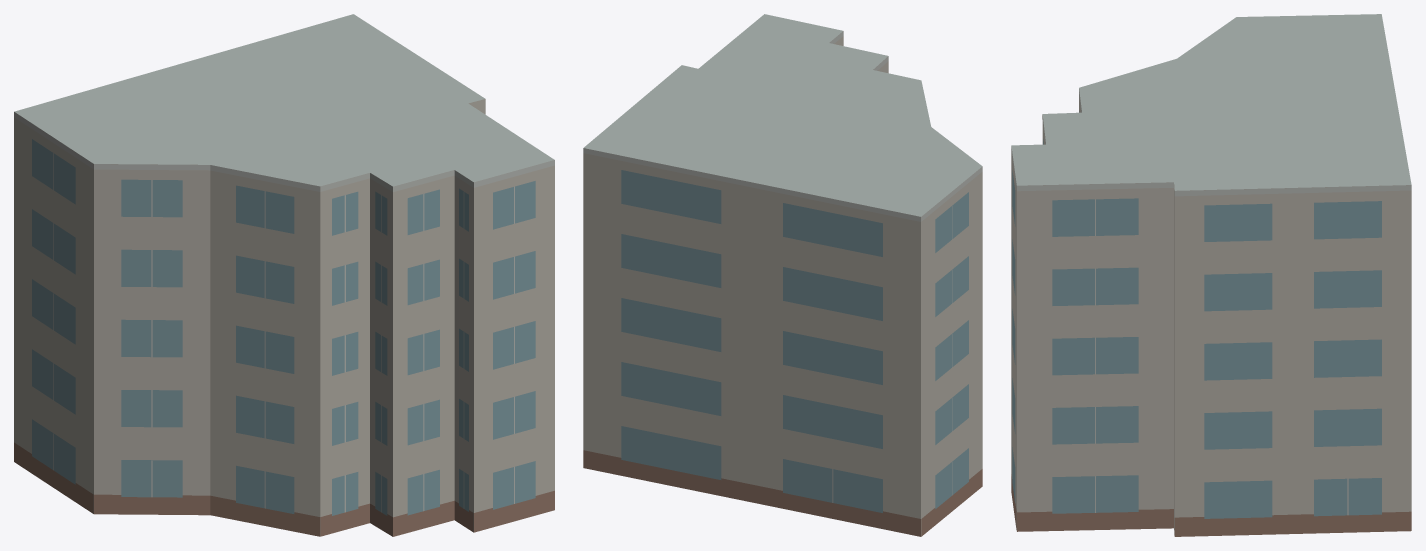
The model's file is survey-upis-32585612.glb.
The picture shows the model from 3 angles, left to right: view 1: azimuth 30°, elevation 25°; view 2: azimuth 150°, elevation 25°; view 3: azimuth 270°, elevation 25°; orthographic projection. The views are drawn at different scales.
Parts seen in each view (by area): view 1: survey-upis-32585612.tmp; view 2: survey-upis-32585612.tmp; view 3: survey-upis-32585612.tmp.
Boxes of the visible parts, x1,y1,x2,y2 form: survey-upis-32585612.tmp: (14, 14, 554, 536); survey-upis-32585612.tmp: (583, 14, 982, 536); survey-upis-32585612.tmp: (1011, 14, 1411, 536).
Bounding box in the file's own units: 16.72 × 15.25 × 16.
